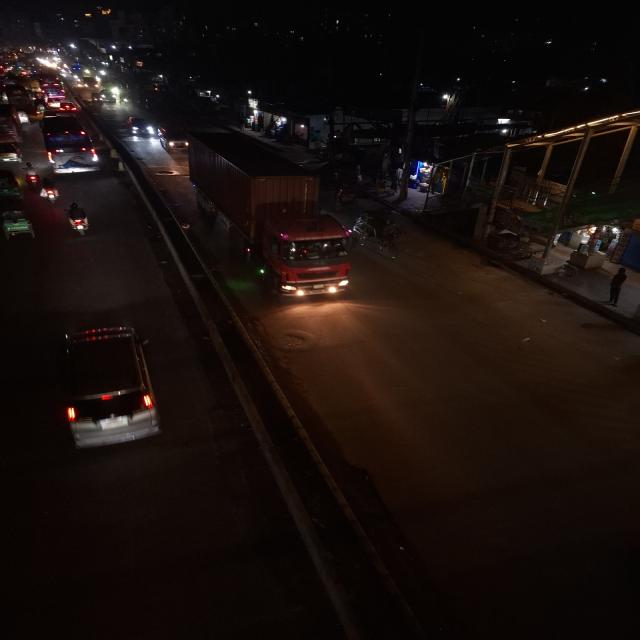bus: (36, 112, 104, 176), (0, 103, 23, 160), (38, 78, 68, 108)
car: (50, 321, 162, 453), (154, 124, 188, 152), (126, 114, 152, 139), (0, 139, 23, 163)
cng: (0, 167, 22, 200)
motorcycle: (26, 163, 62, 207), (64, 200, 92, 238), (36, 175, 61, 207), (22, 161, 41, 188)
rickshaw: (352, 213, 408, 261), (0, 207, 38, 243)
truck: (183, 129, 356, 299)
